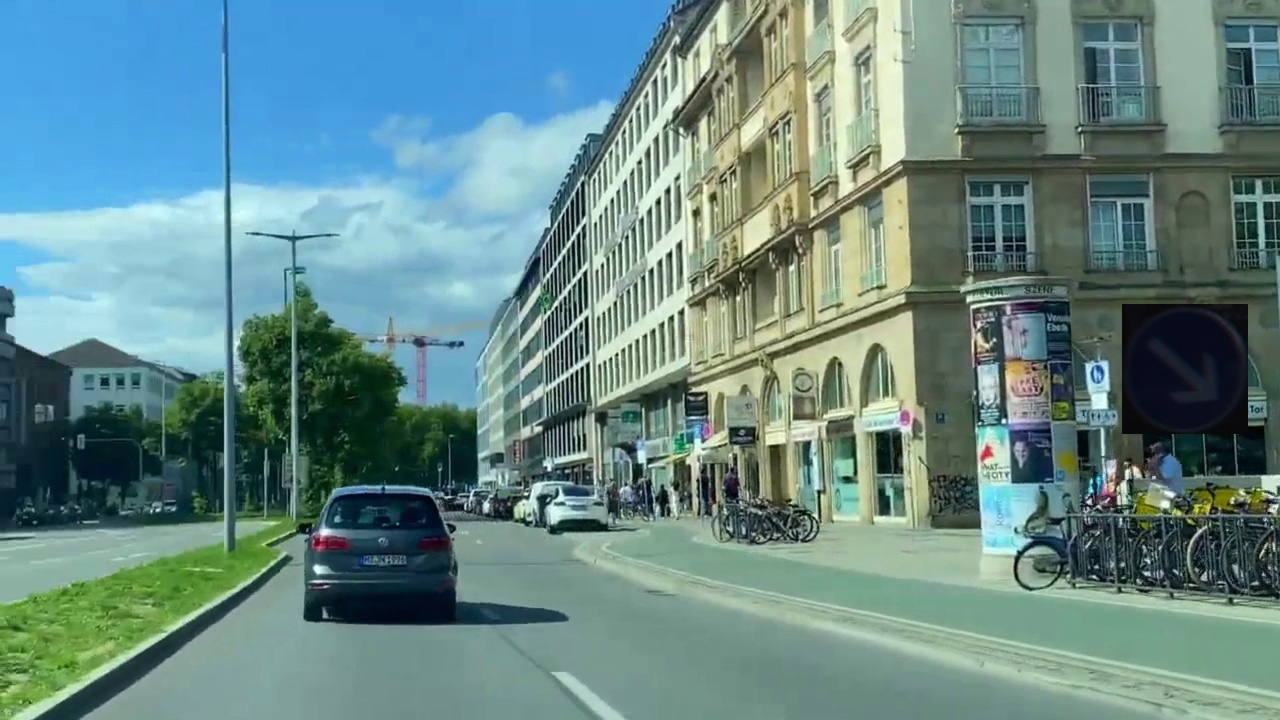Keep right: (1122, 304, 1248, 434)
